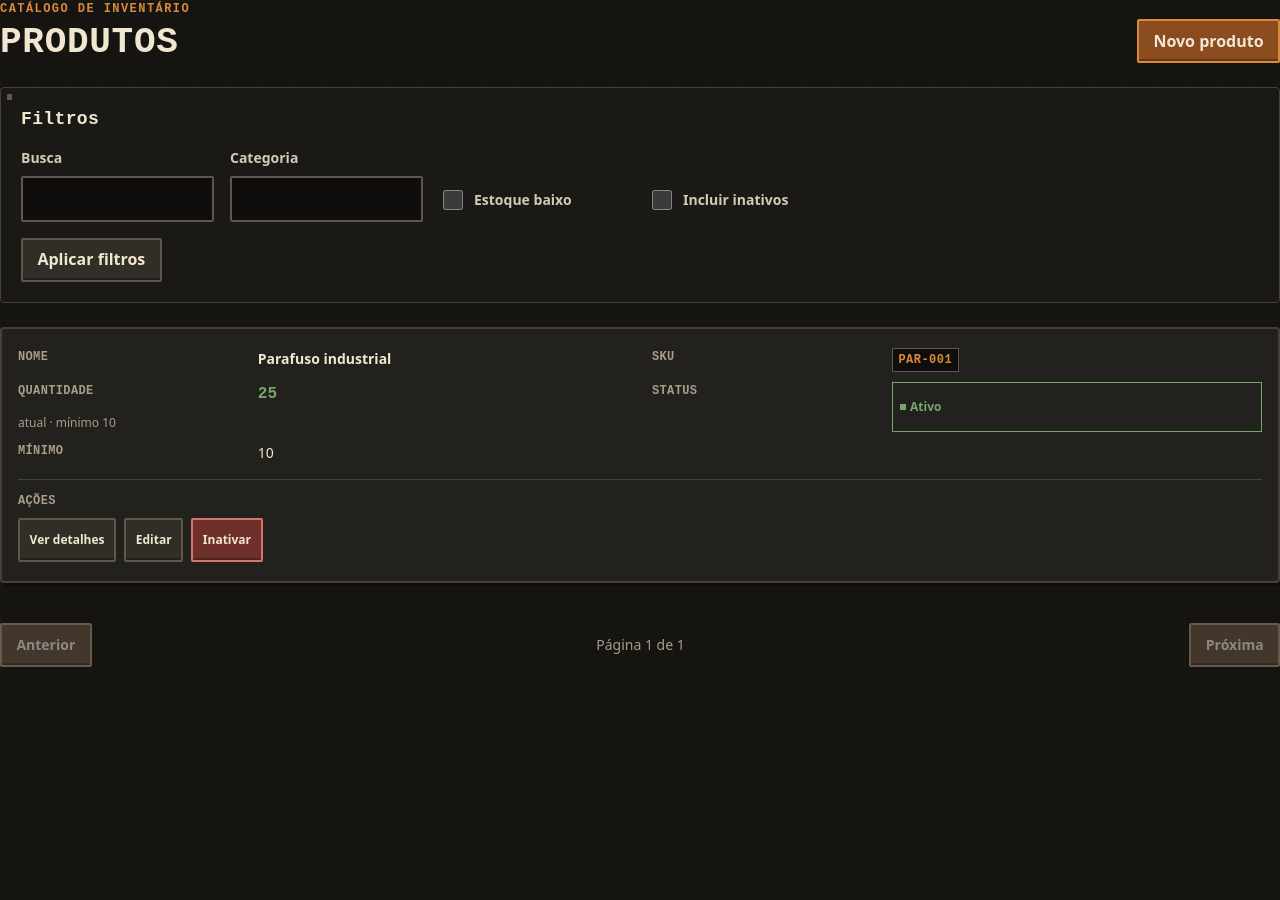
Test case: ProductsPage › abre o fluxo de criação para admin
Expected: the text "Parafuso industrial" is shown, [258, 349, 391, 368]
Step 1. Click the button "Novo produto" → click(1208, 41), box [1137, 19, 1279, 63]
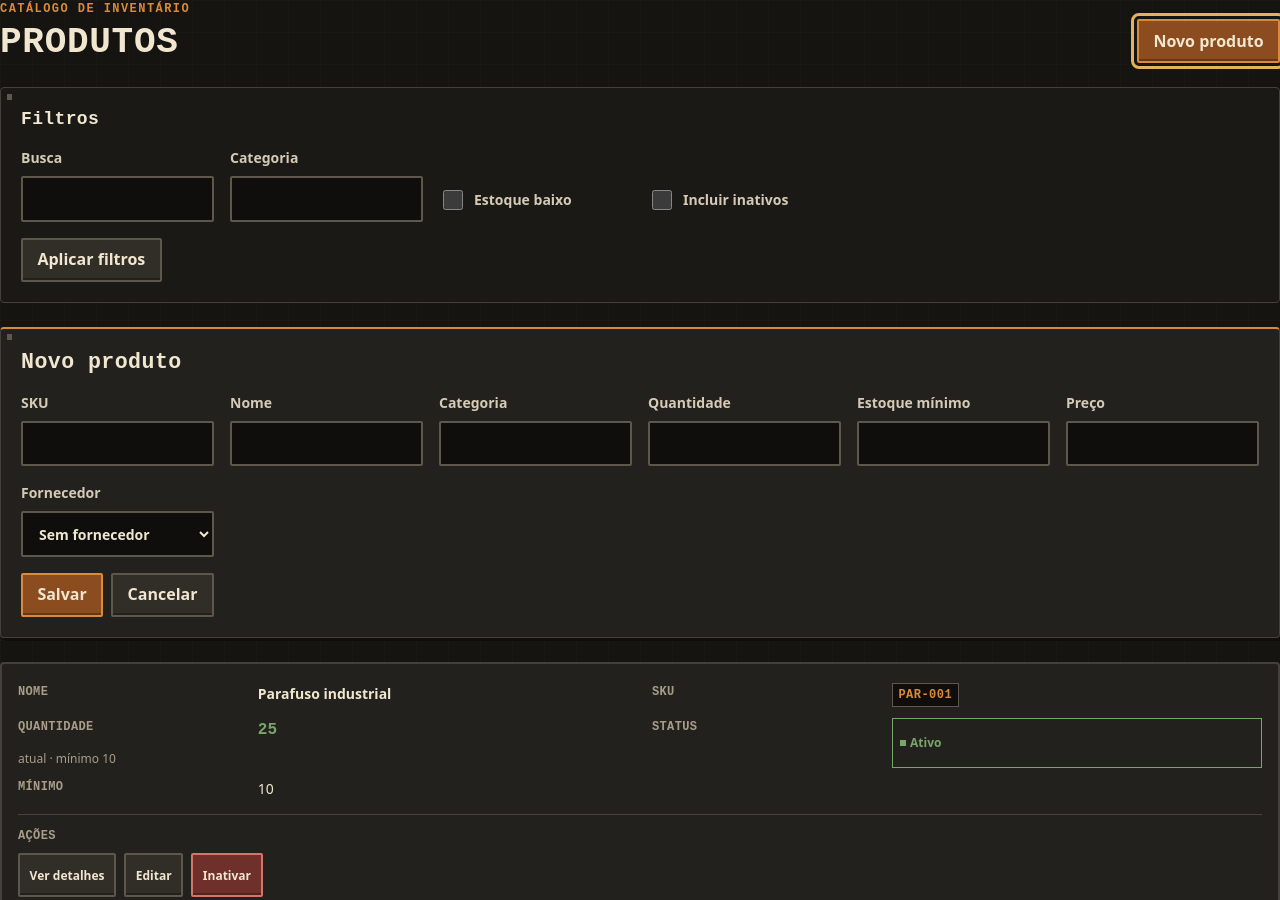
Expected: the heading "Novo produto" is shown, [21, 350, 182, 374]
